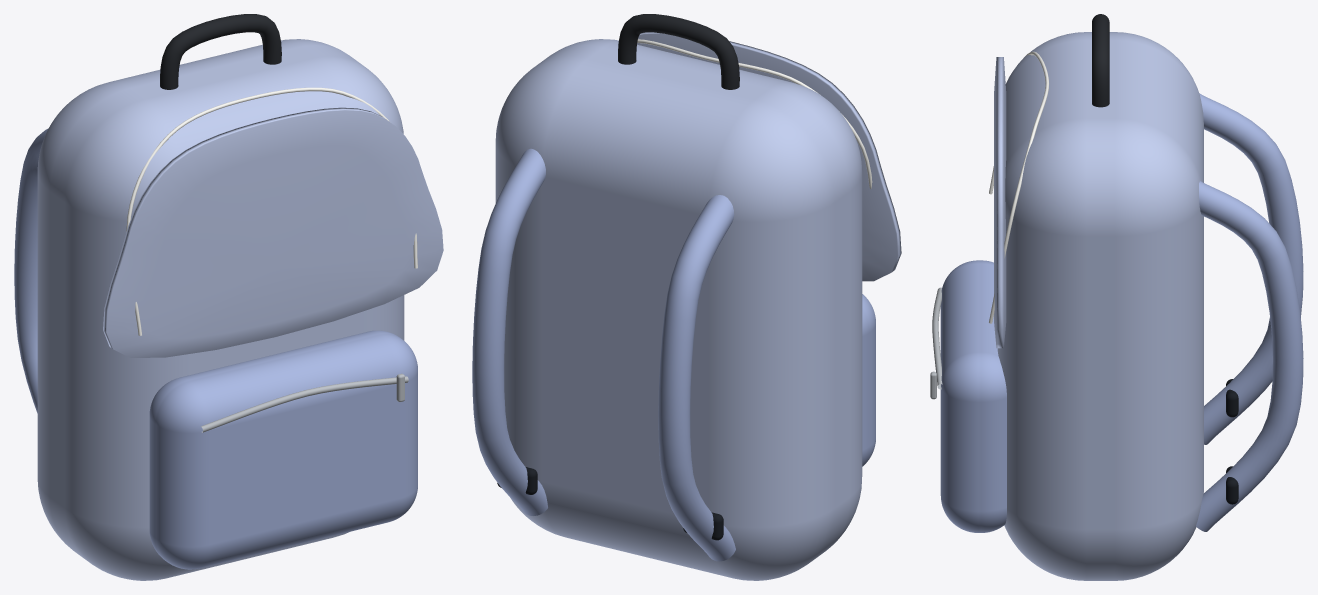
The model's file is weekend-backpack.glb.
3 renders of one model, left to right at view 1: azimuth 30°, elevation 25°; view 2: azimuth 150°, elevation 25°; view 3: azimuth 270°, elevation 25°, orthographic. The views are drawn at different scales.
Parts seen in each view (by area): view 1: soft-continuous-backpack-body, rounded-sewn-crown-panel, complete-sewn-backpack-002, complete-sewn-backpack-007, complete-sewn-backpack-011, complete-sewn-backpack-006, complete-sewn-backpack-003; view 2: soft-continuous-backpack-body, complete-sewn-backpack-007, complete-sewn-backpack-009, rounded-sewn-crown-panel, complete-sewn-backpack-011, complete-sewn-backpack-002, complete-sewn-backpack-006; view 3: soft-continuous-backpack-body, complete-sewn-backpack-002, complete-sewn-backpack-009, complete-sewn-backpack-007, rounded-sewn-crown-panel, complete-sewn-backpack-011, complete-sewn-backpack-006, complete-sewn-backpack-003.
Boxes of the visible parts, bbox=[...] form: soft-continuous-backpack-body: bbox=[37, 39, 404, 580]; rounded-sewn-crown-panel: bbox=[103, 107, 443, 357]; complete-sewn-backpack-002: bbox=[149, 330, 417, 569]; complete-sewn-backpack-007: bbox=[14, 128, 48, 413]; complete-sewn-backpack-011: bbox=[160, 14, 281, 89]; complete-sewn-backpack-006: bbox=[126, 87, 417, 335]; complete-sewn-backpack-003: bbox=[201, 376, 408, 432]; soft-continuous-backpack-body: bbox=[495, 39, 862, 580]; complete-sewn-backpack-007: bbox=[658, 195, 735, 561]; complete-sewn-backpack-009: bbox=[472, 148, 547, 515]; rounded-sewn-crown-panel: bbox=[637, 32, 901, 281]; complete-sewn-backpack-011: bbox=[618, 14, 739, 89]; complete-sewn-backpack-002: bbox=[862, 294, 875, 466]; complete-sewn-backpack-006: bbox=[637, 39, 872, 189]; soft-continuous-backpack-body: bbox=[997, 32, 1203, 580]; complete-sewn-backpack-002: bbox=[940, 260, 1006, 532]; complete-sewn-backpack-009: bbox=[1196, 181, 1303, 531]; complete-sewn-backpack-007: bbox=[1199, 93, 1303, 444]; rounded-sewn-crown-panel: bbox=[994, 57, 1006, 348]; complete-sewn-backpack-011: bbox=[1092, 14, 1109, 107]; complete-sewn-backpack-006: bbox=[989, 51, 1049, 323]; complete-sewn-backpack-003: bbox=[932, 287, 942, 389].
Bounding box in the file's own units: 1.34 × 2 × 1.33.
